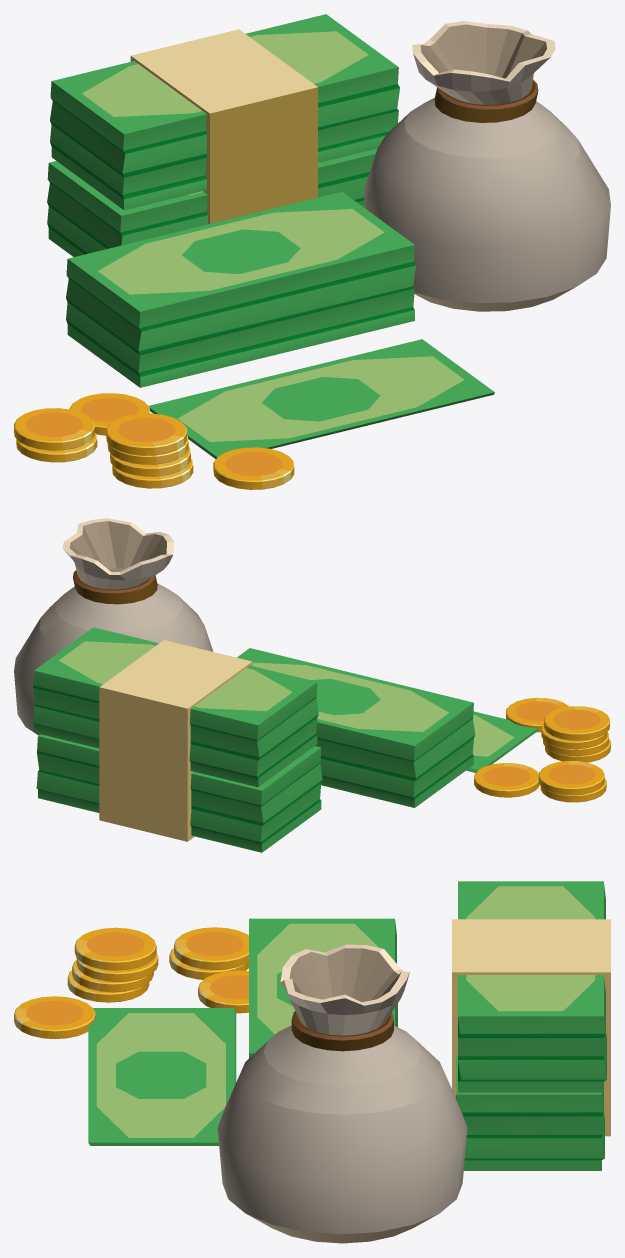
Rendered from Assets_Moola.fbx.
3 views of the same model, one above another, from view 1: azimuth 30°, elevation 25°; view 2: azimuth 150°, elevation 25°; view 3: azimuth 270°, elevation 25° (orthographic). The views are drawn at different scales.
Visible parts, largest first — view 1: pCube272, pCylinder247, pCube266, polySurface1748, pCylinder248, pCylinder249, pCylinder244, pCylinder243; view 2: pCube272, pCube266, pCylinder247, pCylinder248, pCylinder249, polySurface1748, pCylinder243, pCylinder244; view 3: pCylinder247, pCube272, polySurface1748, pCube266, pCylinder248, pCylinder249, pCylinder244, pCylinder243.
Boxes of the visible parts, x1=… form: pCube272: x1=47, y1=14, x2=399, y2=256; pCylinder247: x1=363, y1=21, x2=610, y2=311; pCube266: x1=66, y1=192, x2=415, y2=387; polySurface1748: x1=149, y1=339, x2=494, y2=458; pCylinder248: x1=106, y1=413, x2=193, y2=488; pCylinder249: x1=14, y1=408, x2=97, y2=462; pCylinder244: x1=213, y1=447, x2=294, y2=489; pCylinder243: x1=69, y1=393, x2=149, y2=435; pCube272: x1=33, y1=627, x2=322, y2=852; pCube266: x1=237, y1=648, x2=475, y2=807; pCylinder247: x1=14, y1=518, x2=213, y2=735; pCylinder248: x1=541, y1=706, x2=610, y2=762; pCylinder249: x1=538, y1=761, x2=606, y2=802; polySurface1748: x1=466, y1=711, x2=538, y2=772; pCylinder243: x1=474, y1=763, x2=539, y2=797; pCylinder244: x1=506, y1=697, x2=568, y2=732; pCylinder247: x1=217, y1=944, x2=467, y2=1243; pCube272: x1=452, y1=881, x2=610, y2=1170; polySurface1748: x1=88, y1=1008, x2=236, y2=1145; pCube266: x1=249, y1=918, x2=397, y2=1058; pCylinder248: x1=67, y1=927, x2=158, y2=1002; pCylinder249: x1=169, y1=927, x2=248, y2=979; pCylinder244: x1=14, y1=996, x2=95, y2=1038; pCylinder243: x1=198, y1=970, x2=248, y2=1013.
Bounding box in the file's own units: 29.07 × 10.14 × 23.4.
